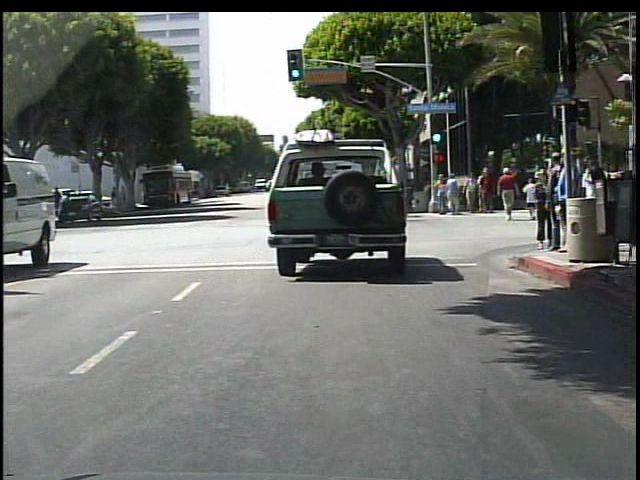person: (553, 148, 577, 262), (549, 150, 566, 254), (534, 169, 555, 252), (500, 165, 520, 223), (523, 177, 542, 224), (541, 170, 556, 219), (447, 173, 462, 217), (481, 168, 494, 212), (465, 171, 478, 212), (440, 174, 451, 216), (110, 186, 120, 210), (121, 185, 129, 210)
